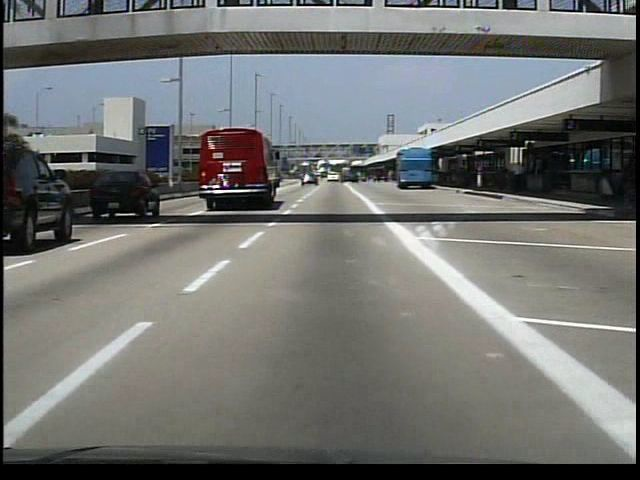person: (514, 159, 528, 192)
